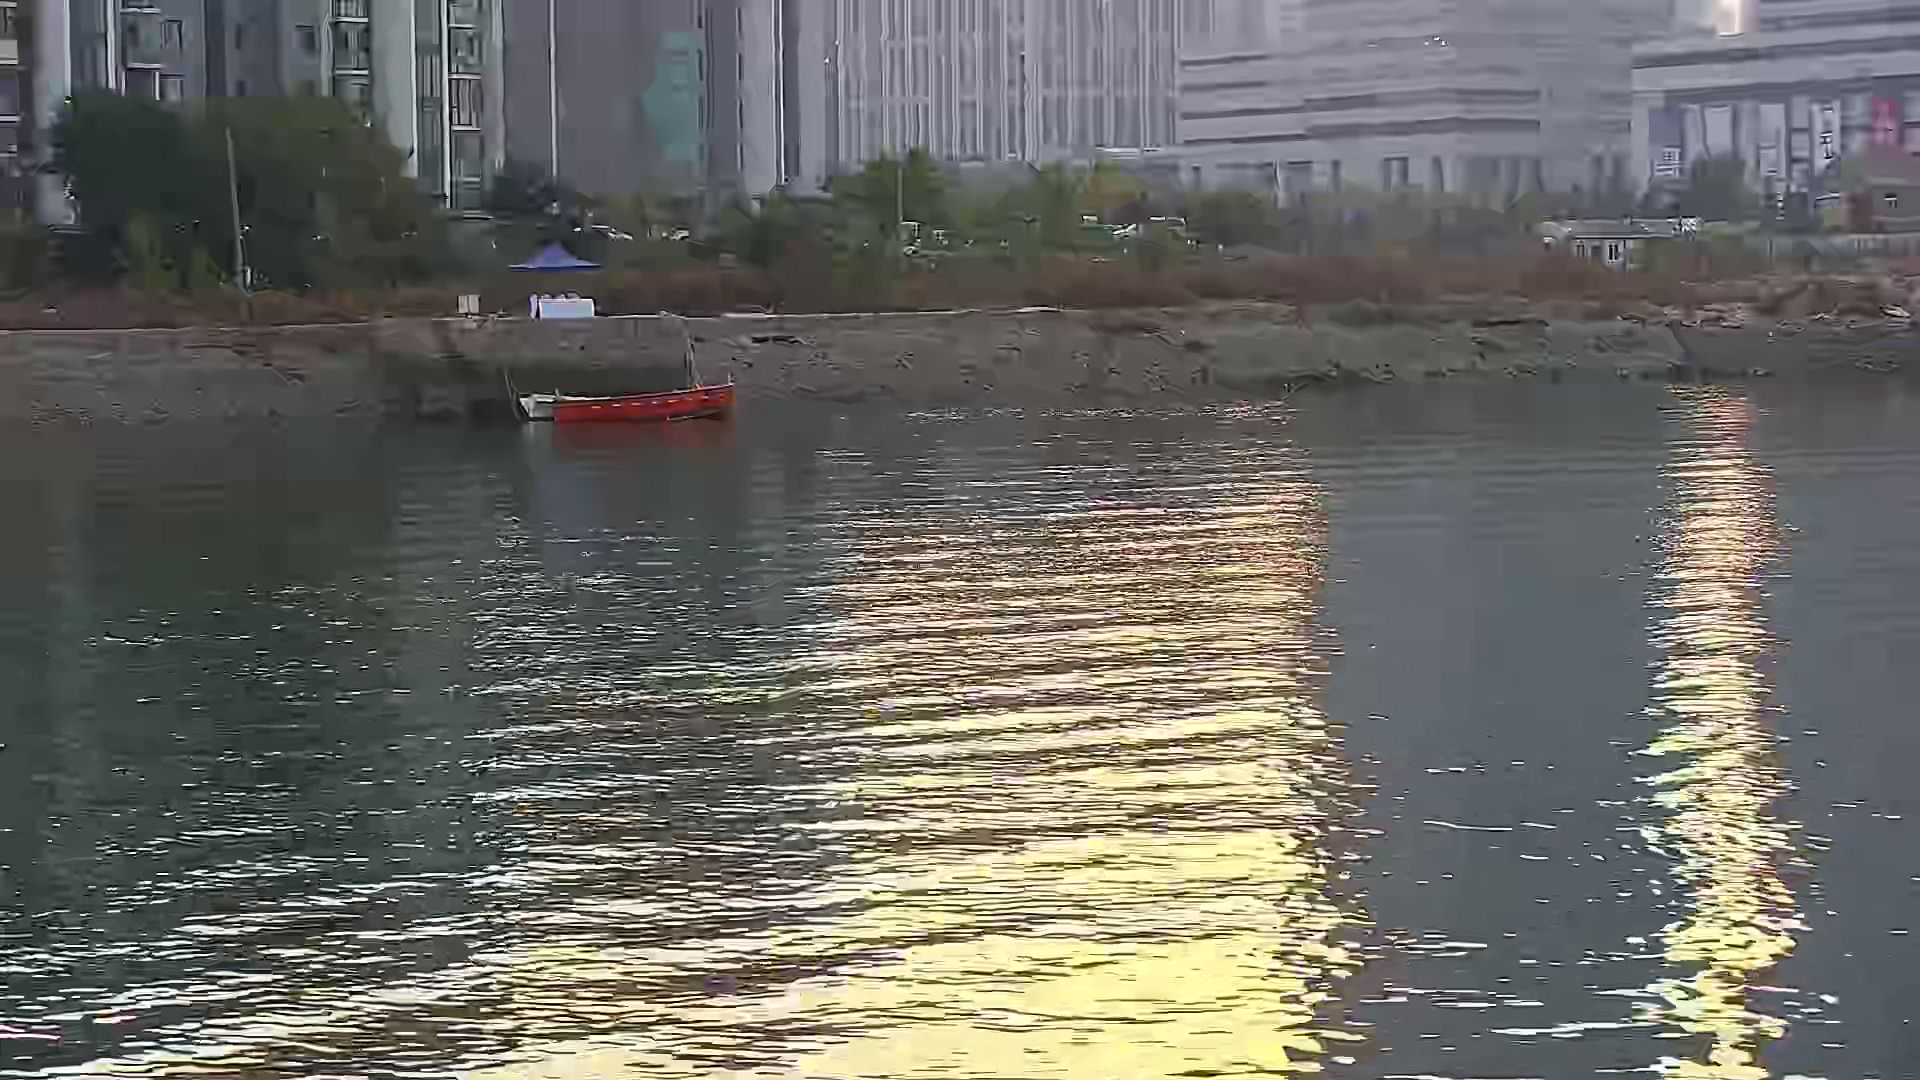boat: (539, 375, 735, 426)
